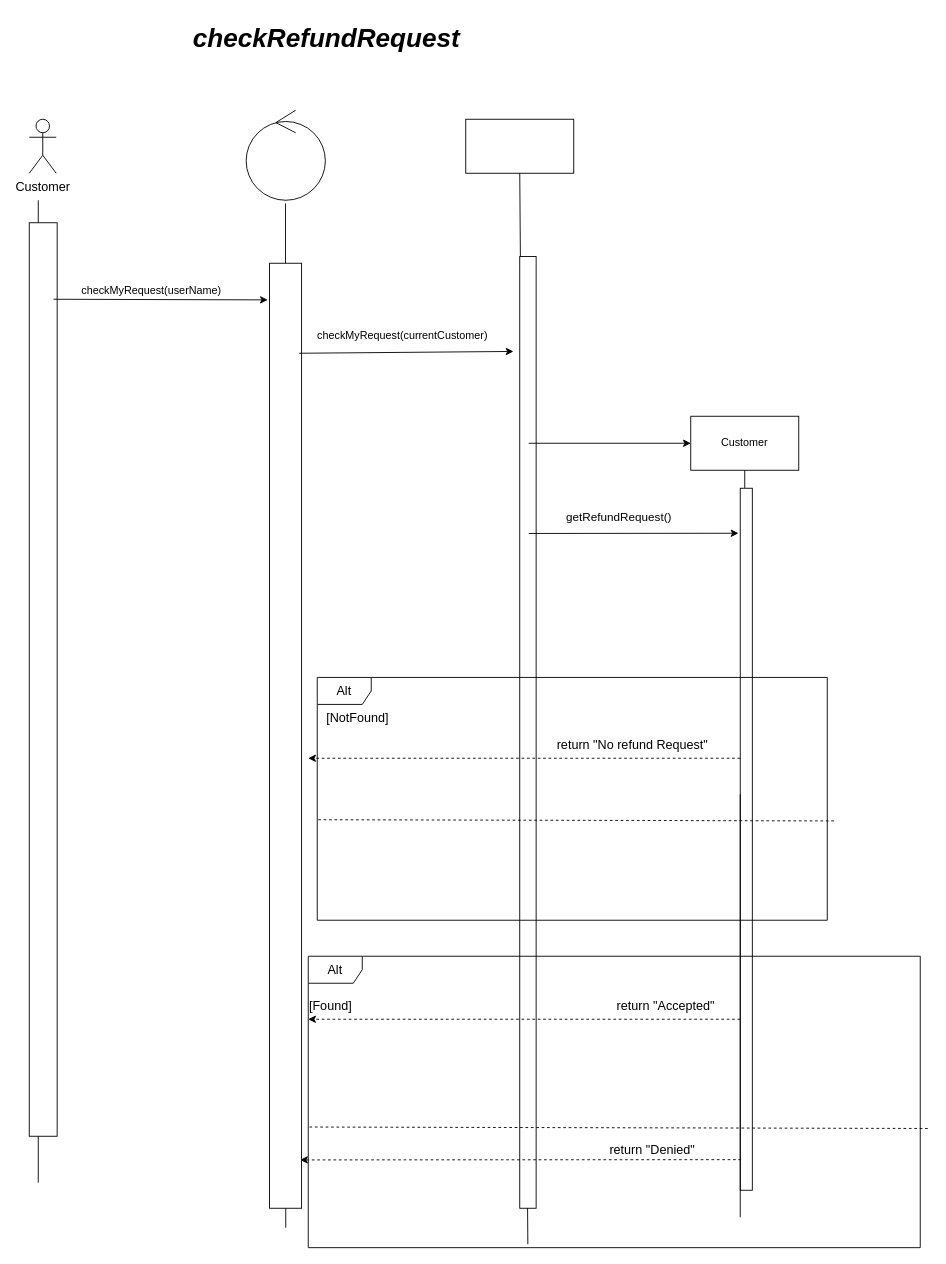
The diagram is 946 pixels wide and 1264 high, and some of its shapes have lost their labels. Each missing label, with the centre of its shape:
CheckingRequest: the point at 519,145
Refund Request Controller: the point at 285,154
